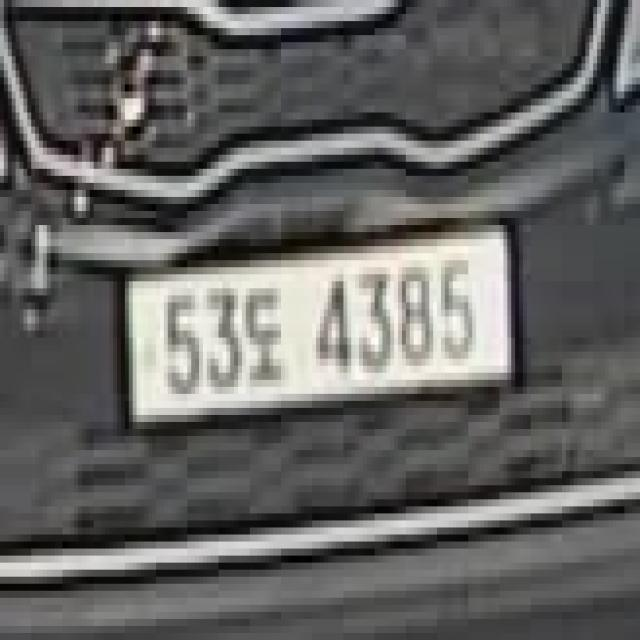3: (203, 274, 242, 408), (355, 260, 398, 380)
4: (316, 274, 355, 373)
5: (441, 253, 484, 366), (164, 295, 203, 401)
8: (390, 260, 449, 380)
do: (230, 281, 289, 380)
license_plate: (117, 190, 519, 443)
